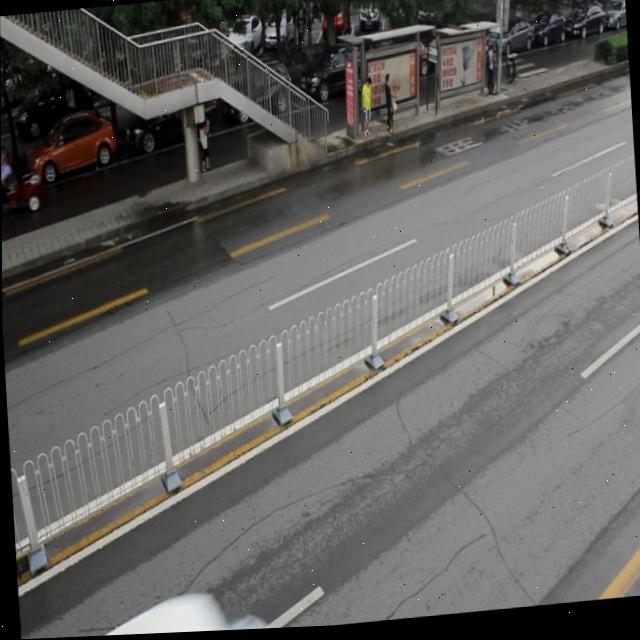car: (29, 112, 121, 185), (125, 89, 223, 152), (299, 44, 379, 108), (224, 62, 298, 130), (1, 138, 16, 198)
